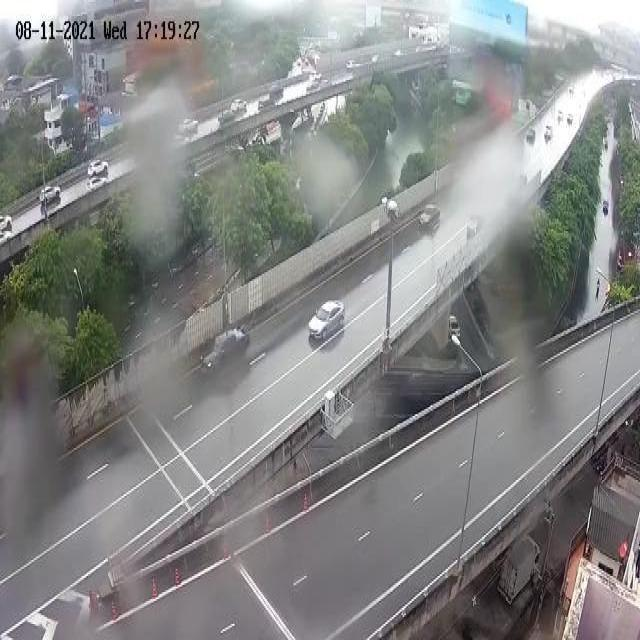Car: (195, 319, 246, 389), (308, 294, 348, 350), (411, 196, 442, 245), (457, 208, 486, 249), (81, 149, 110, 189), (36, 178, 64, 219), (177, 110, 200, 146), (520, 120, 540, 150), (230, 94, 250, 120), (0, 211, 17, 237), (448, 315, 460, 342)
Cycle: (591, 270, 605, 304)
